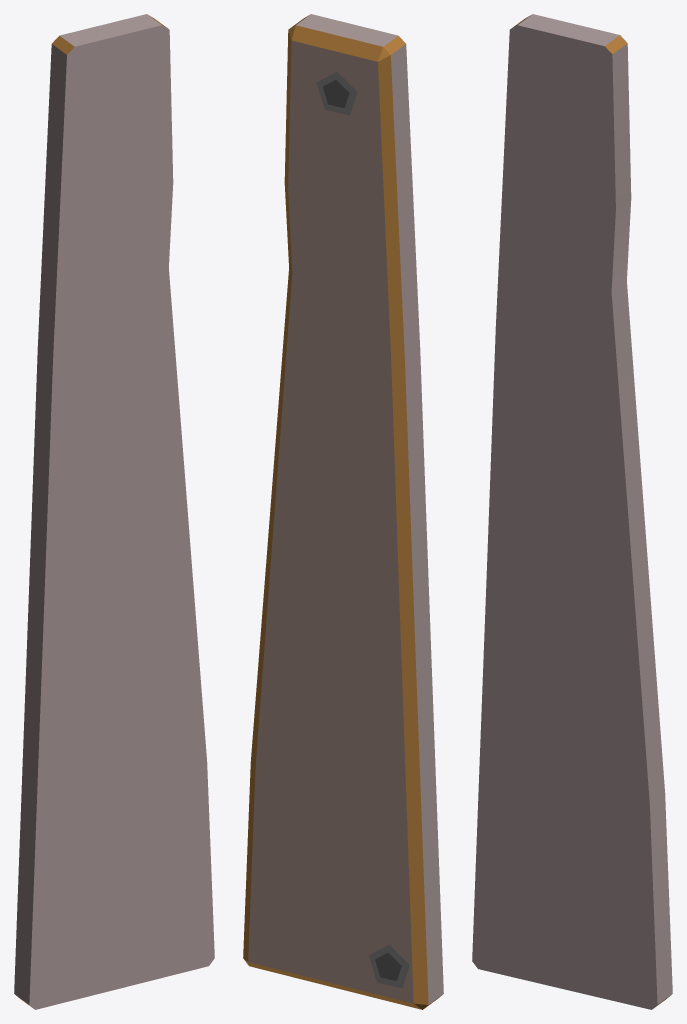
File: WoodBoardC.fbx
3 views of the same model, side by side, from view 1: azimuth 30°, elevation 25°; view 2: azimuth 150°, elevation 25°; view 3: azimuth 330°, elevation 25° (orthographic).
Visible parts, largest first — view 1: WoodBoardC; view 2: WoodBoardC; view 3: WoodBoardC.
Part boxes in pixels (<box>): WoodBoardC: <box>14,14,214,1009</box>; WoodBoardC: <box>243,14,443,1009</box>; WoodBoardC: <box>472,14,672,1009</box>.
Size of the model in its own units: 75.85 by 373 by 14.97.
